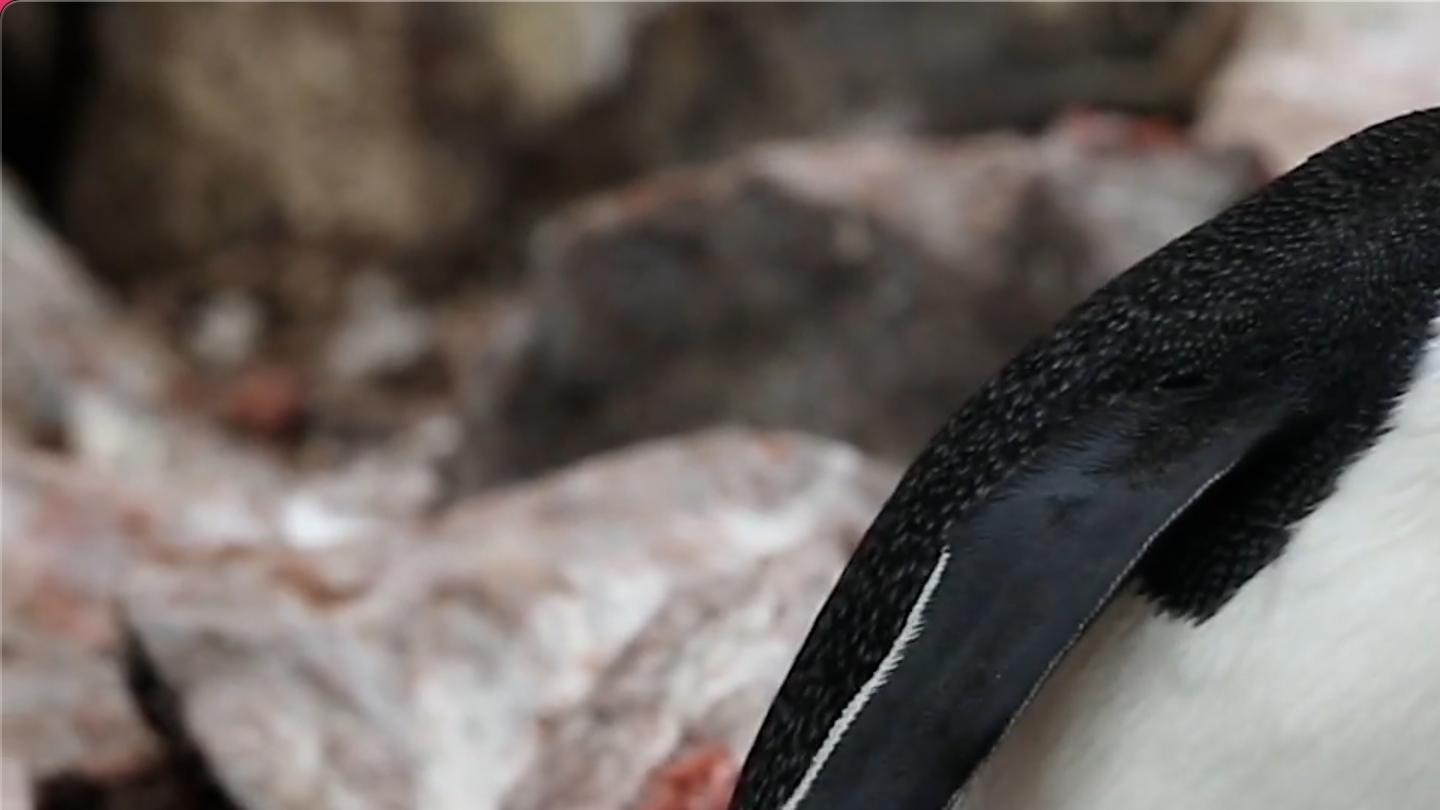Chinstrap Penguin: (887, 10, 1440, 779)
